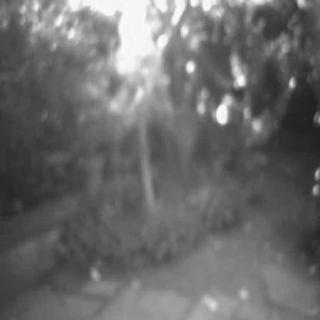other: (99, 11, 163, 97)
